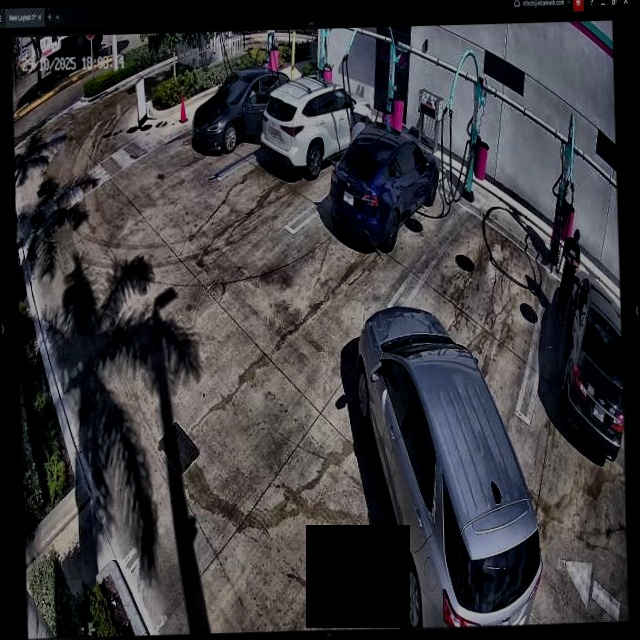Car: (355, 285, 536, 631), (325, 125, 440, 250), (259, 79, 373, 166), (187, 70, 293, 157)
